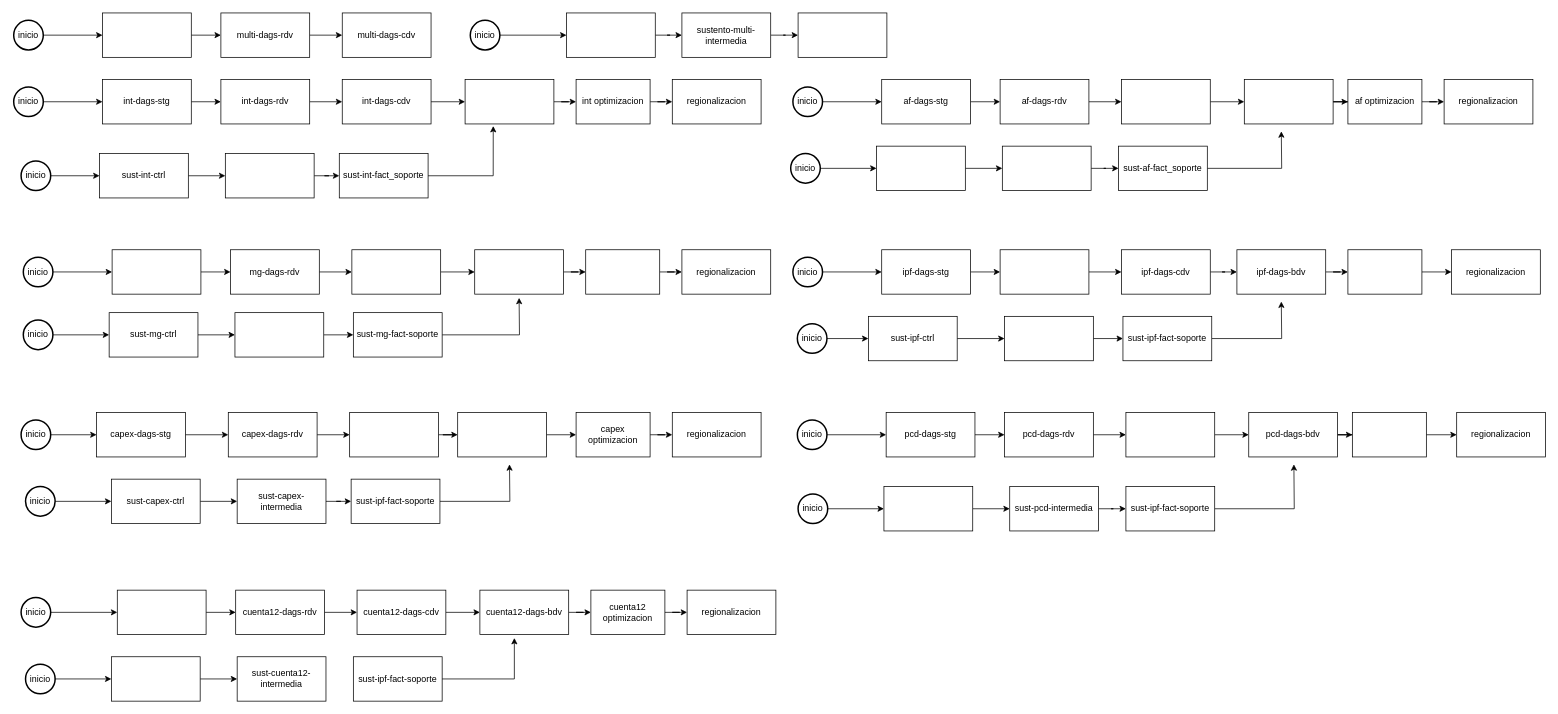
Some shapes in this 1558 by 714 pixel diagram are drawn without their labels. Each missing label, with the centre of its shape:
"af-dags-bdv" belongs at [1288,101].
"af-dags-cdv" belongs at [1165,101].
"capex-dags-bdv" belongs at [501,434].
"capex-dags-cdv" belongs at [393,434].
"cuenta12-dags-stg" belongs at [161,612].
"int-dags-bdv" belongs at [509,101].
"ipf optimizacion" belongs at [1384,271].
"ipf-dags-rdv" belongs at [1044,271].
"mg optimizacion" belongs at [622,271].
"mg-dags-bdv" belongs at [519,271].
"mg-dags-cdv" belongs at [396,271].
"mg-dags-stg" belongs at [156,271].
"multi-dags-stg" belongs at [146,34].
"pcd optimizacion" belongs at [1389,434].
"pcd-dags-cdv" belongs at [1170,434].
"sust-af-ctrl" belongs at [920,168].
"sust-af-intermedia" belongs at [1046,168].
"sust-cuenta12-ctrl" belongs at [155,678].
"sust-int-intermedia" belongs at [269,175].
"sust-ipf-intermedia" belongs at [1048,338].
"sust-mg-intermedia" belongs at [279,334].
"sust-multi-fact_soporte" belongs at [842,34].
"sust-pcd-ctrl" belongs at [928,508].
"sustento-multi-ctrl" belongs at [610,34].
